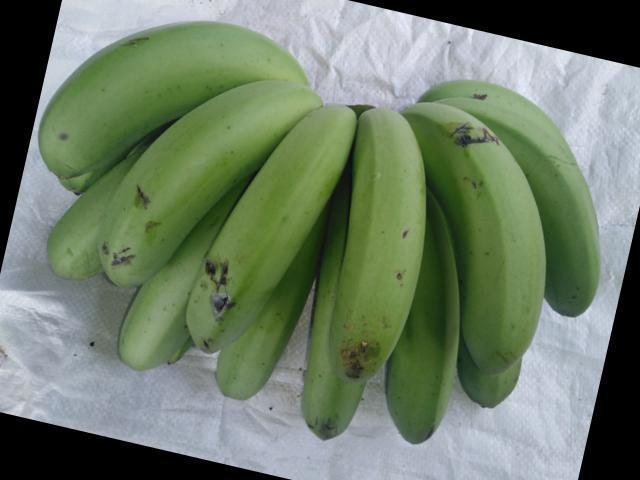unripe: (94, 71, 305, 288), (9, 23, 297, 177), (400, 87, 549, 380), (186, 91, 344, 357), (320, 101, 431, 396), (209, 269, 297, 413), (95, 268, 197, 391), (29, 192, 106, 294)
